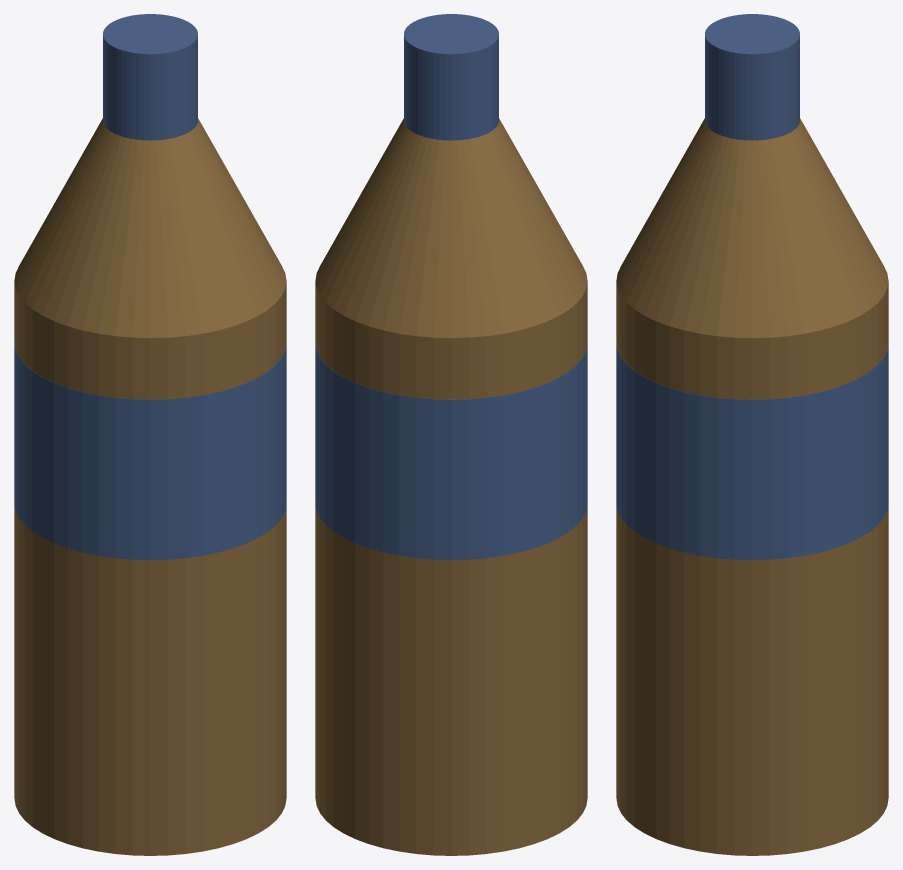
Rendered from peepsi cola.glb.
3 views of the same model, side by side, from view 1: azimuth 30°, elevation 25°; view 2: azimuth 150°, elevation 25°; view 3: azimuth 270°, elevation 25° (orthographic).
Visible parts, largest first — view 1: Mesh_Mesh_head_geo.001_lambert2SG.001; view 2: Mesh_Mesh_head_geo.001_lambert2SG.001; view 3: Mesh_Mesh_head_geo.001_lambert2SG.001.
Boxes of the visible parts, <box> form: Mesh_Mesh_head_geo.001_lambert2SG.001: <box>14,14,286,855</box>; Mesh_Mesh_head_geo.001_lambert2SG.001: <box>315,14,587,855</box>; Mesh_Mesh_head_geo.001_lambert2SG.001: <box>616,14,888,855</box>.
Bounding box in the file's own units: 0.02 × 0.062 × 0.02.
